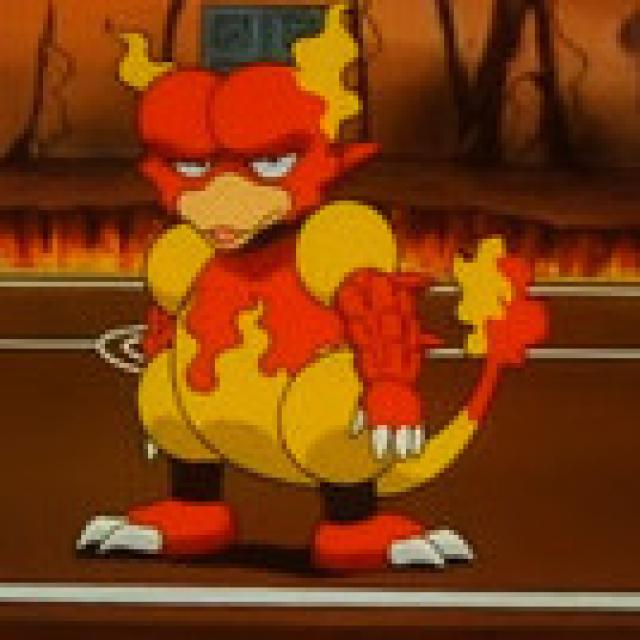Magmar: (86, 11, 534, 584)
